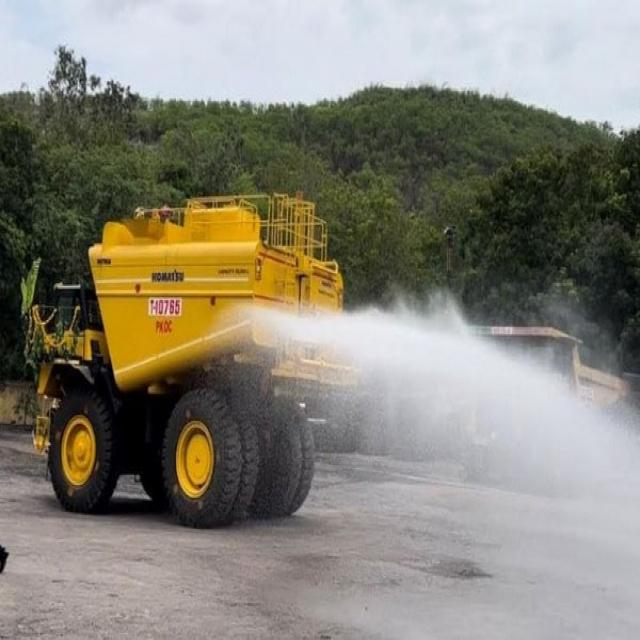dump_truck: (29, 178, 350, 528)
